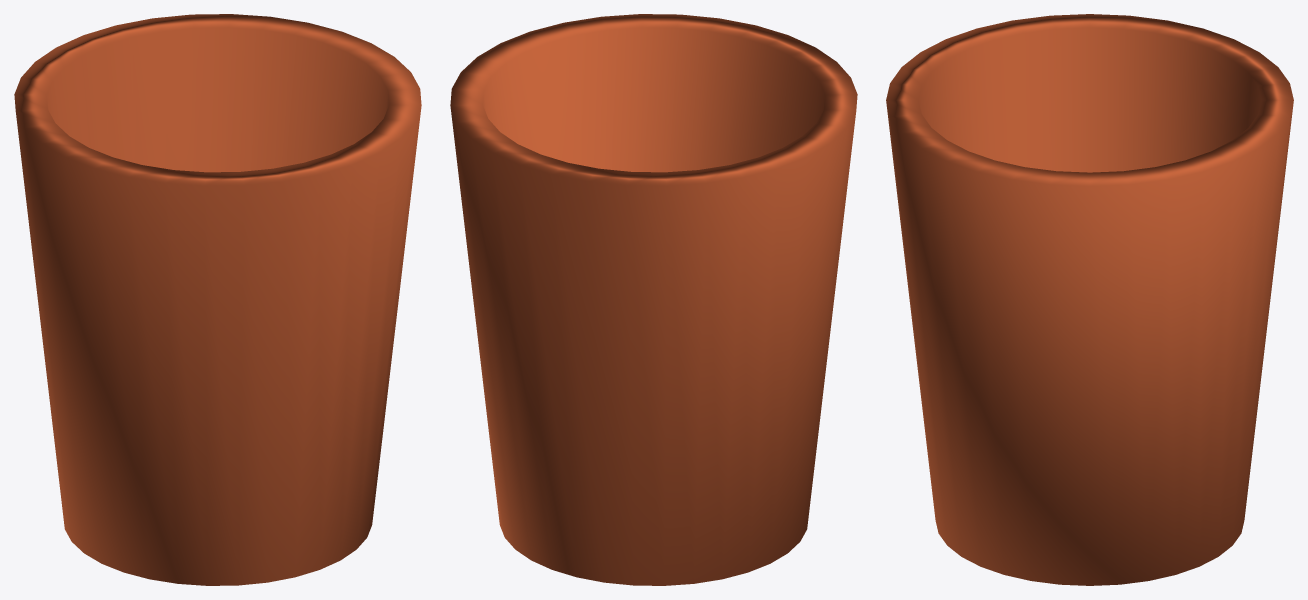
The model's file is botepincel.fbx.
The picture shows the model from 3 angles, left to right: view 1: azimuth 30°, elevation 25°; view 2: azimuth 150°, elevation 25°; view 3: azimuth 270°, elevation 25°; orthographic projection.
Visible parts, largest first — view 1: Cylinder.015; view 2: Cylinder.015; view 3: Cylinder.015.
Boxes of the visible parts, box(x1,y1,x2,y2) form: Cylinder.015: box(14, 14, 421, 585); Cylinder.015: box(450, 14, 857, 585); Cylinder.015: box(886, 14, 1293, 585).
Size of the model in its own units: 78.75 by 89.6 by 78.75.
